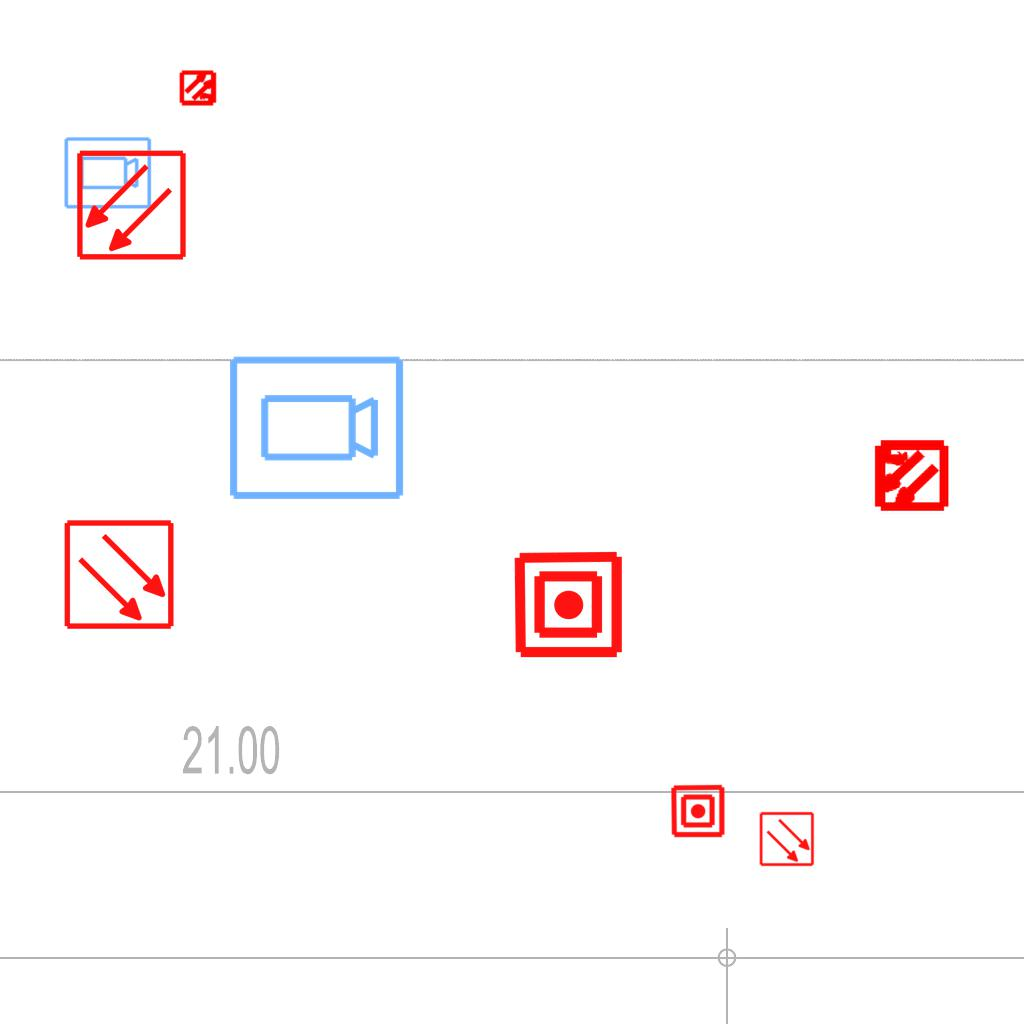KFO_Kamera_mit_Festobjektiv: (225, 352, 407, 506), (62, 135, 153, 212)
NAM-Nichtautomatischer_Melder: (512, 548, 625, 661), (670, 783, 726, 839)
OT_Multisensormelder_(Kombination_RMO_WMD): (853, 419, 966, 532), (171, 60, 227, 116)
RMO_Rauchmelder_optischer: (63, 518, 176, 631), (75, 149, 188, 262), (759, 811, 815, 867)
